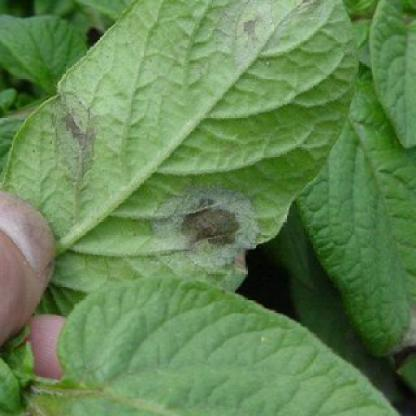potato leaf late blight: (3, 1, 360, 298)
